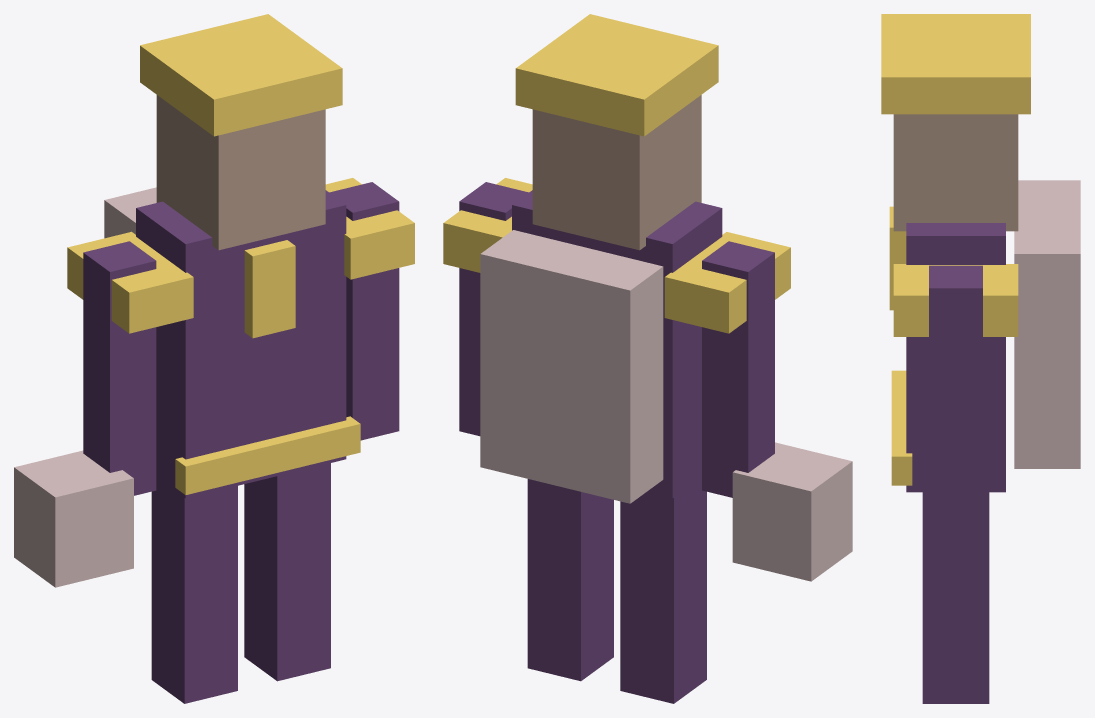
The model's file is 17_zerin_signalborn_responder_of_service.glb.
3 views of the same model, side by side, from view 1: azimuth 30°, elevation 25°; view 2: azimuth 150°, elevation 25°; view 3: azimuth 270°, elevation 25° (orthographic).
Visible parts, largest first — view 1: Zerin Signalborn, Responder of Service; view 2: Zerin Signalborn, Responder of Service; view 3: Zerin Signalborn, Responder of Service.
Part boxes in pixels (bbox=[...]): Zerin Signalborn, Responder of Service: bbox=[14, 14, 414, 703]; Zerin Signalborn, Responder of Service: bbox=[443, 14, 852, 703]; Zerin Signalborn, Responder of Service: bbox=[881, 14, 1080, 703].
Size of the model in its own units: 0.9401 by 1.56 by 0.4535.
